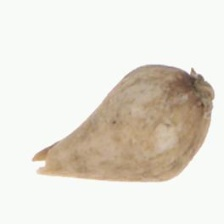L1: (185, 69, 215, 109), (30, 144, 61, 176)
L2: (31, 63, 214, 182)
